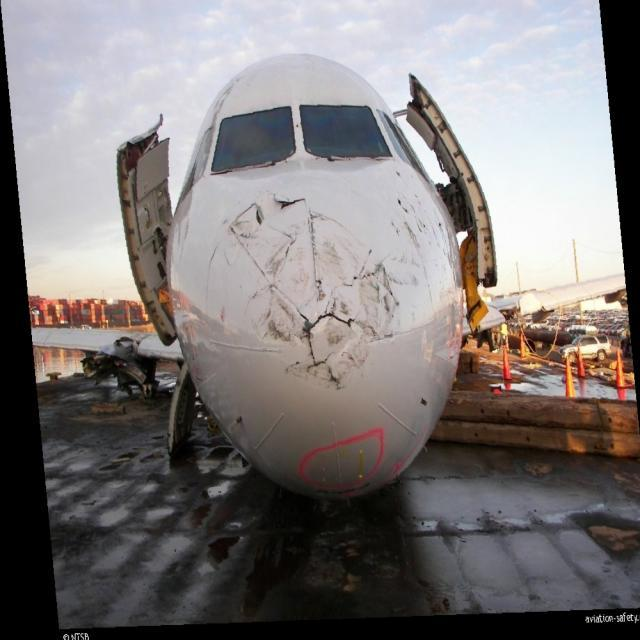crack: (216, 195, 404, 398)
